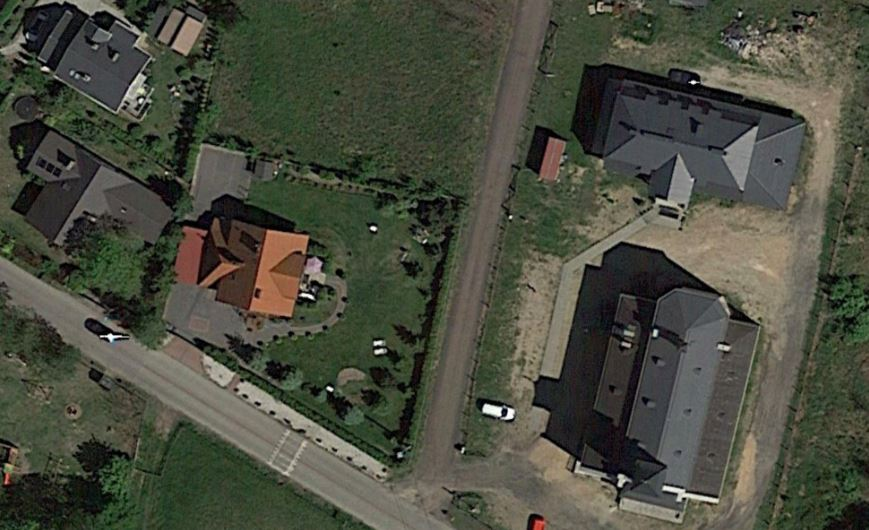block of flats: (595, 62, 811, 226)
church: (566, 271, 766, 526)
family house: (22, 125, 175, 253), (192, 215, 327, 329), (32, 5, 156, 118)
